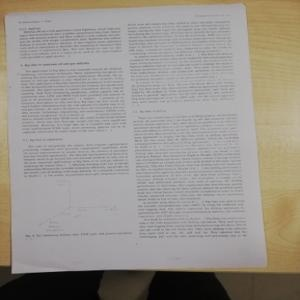diagram: (30, 180, 126, 230)
text: (134, 113, 250, 240), (127, 18, 243, 103), (20, 65, 128, 134), (23, 142, 131, 180), (18, 24, 122, 59)
